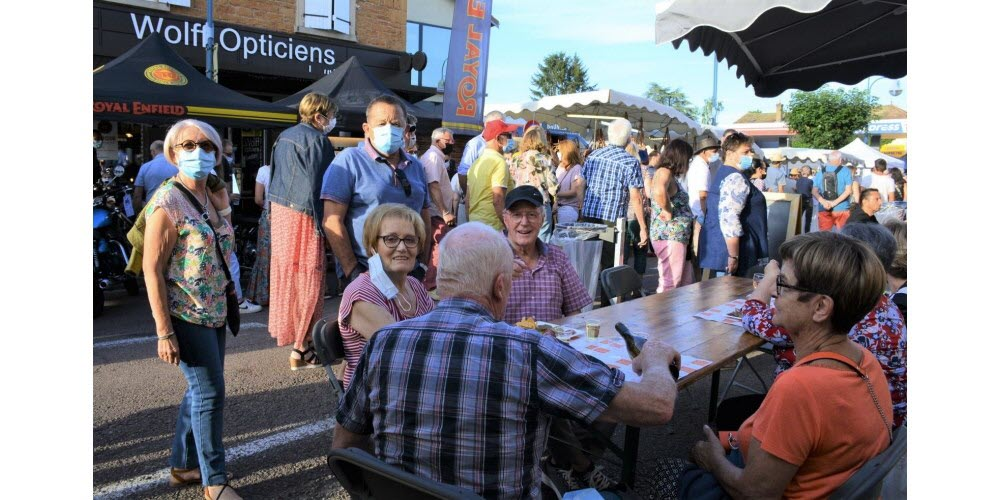with_mask: (168, 124, 220, 186), (370, 101, 405, 159), (725, 143, 760, 174), (317, 106, 342, 136), (492, 124, 513, 157), (437, 128, 456, 155)
without_mask: (756, 262, 806, 334), (372, 212, 421, 274), (505, 202, 545, 237), (867, 195, 884, 218)
